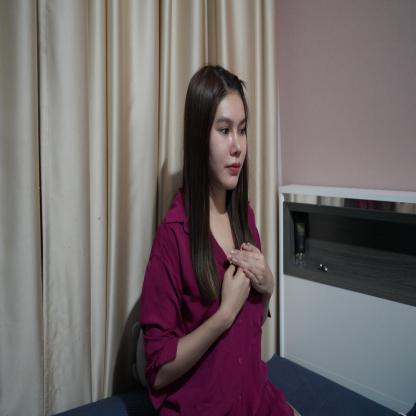Grieve: (208, 241, 276, 326)
